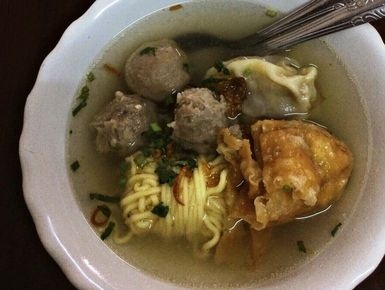bakso_malang: (88, 39, 355, 274)
